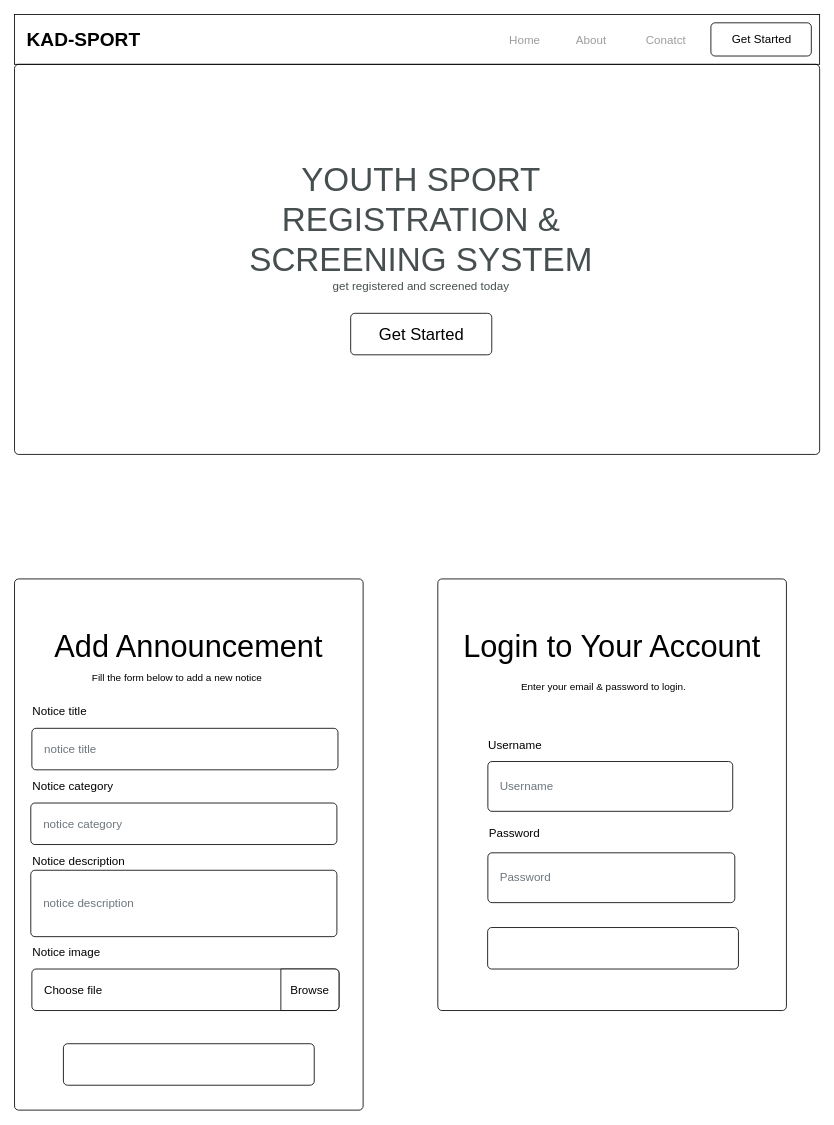
The diagram is 834 pixels wide and 1125 high, and some of its shapes have lost their labels. The shapes that lost their labels are listed below. From the top down, each one's centre as x and y in pixels, then its label:
point 612,948: Login
point 188,1064: Save
